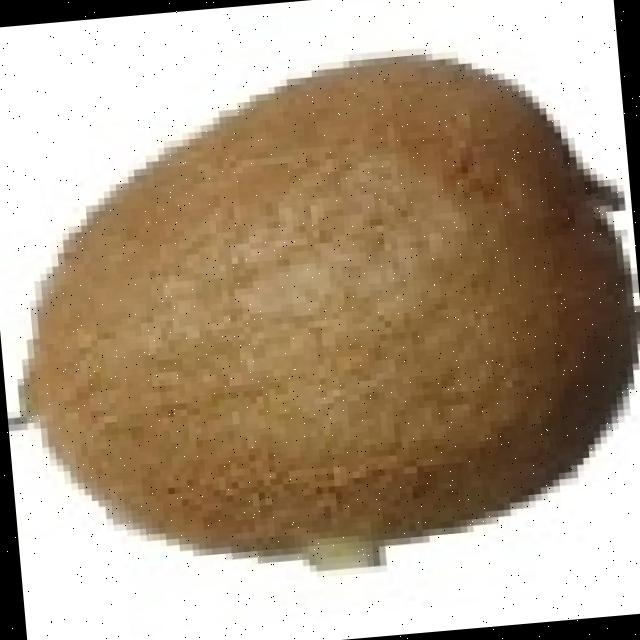kiwi: (16, 49, 620, 552)
